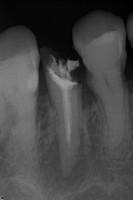Furcation Involvement: (44, 128, 87, 193)
